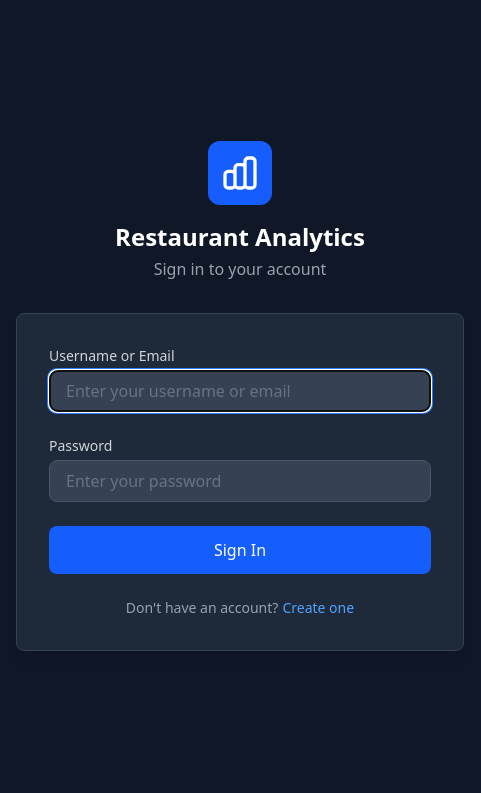
Test: Login Page - Registration › shows error when passwords do not match
Step 1. Click the button "Create one" → (318, 608), box [282,598,354,618]
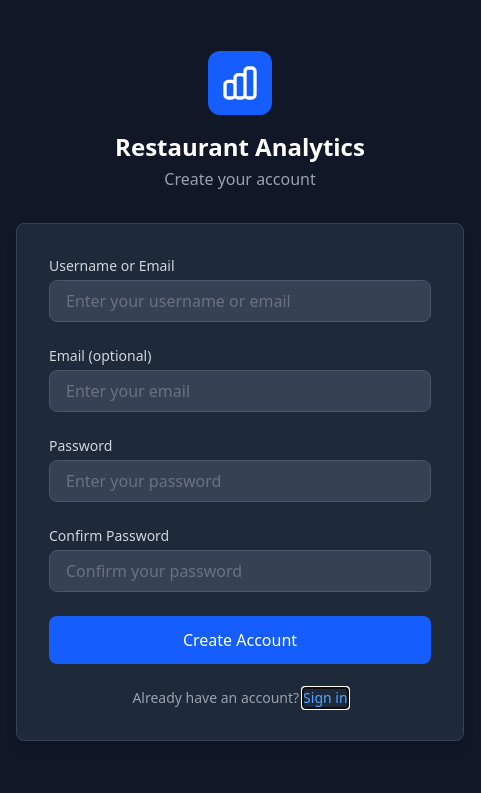
Step 2. Type "newuser" into the field labelled "Username or Email" → (240, 301), box [49,280,431,322]
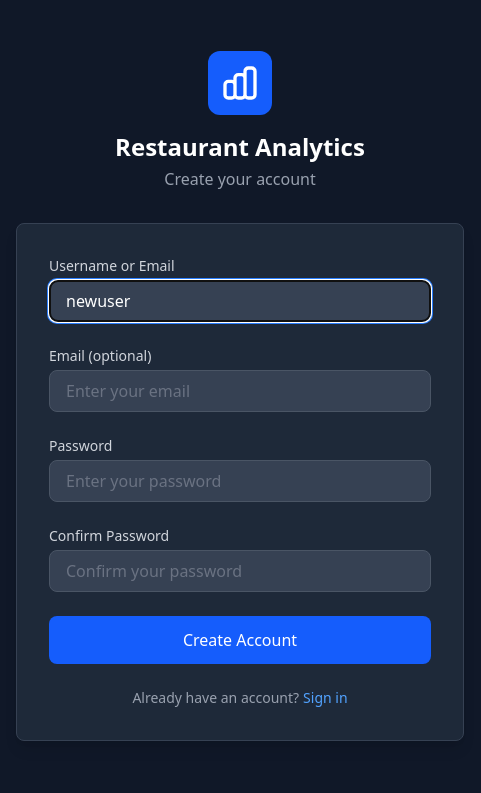
Step 3. Type "password123" into the password field labelled "Password" → (240, 481), box [49,460,431,502]
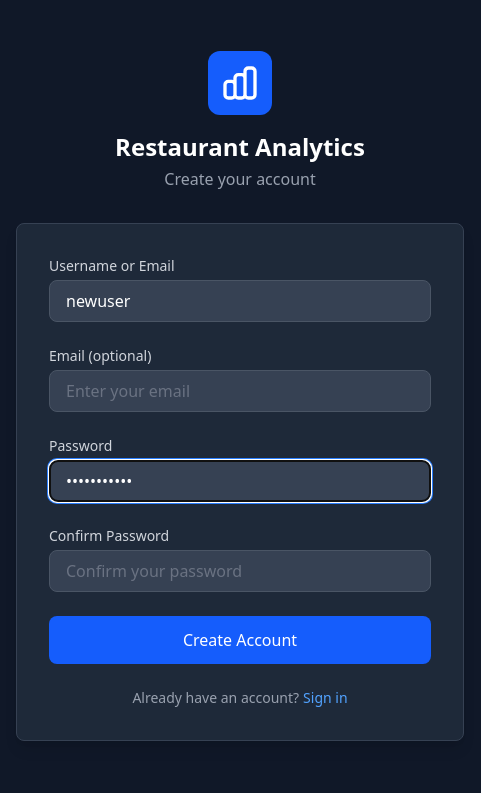
Step 4. Type "different" into the password field labelled "Confirm Password" → (240, 571), box [49,550,431,592]
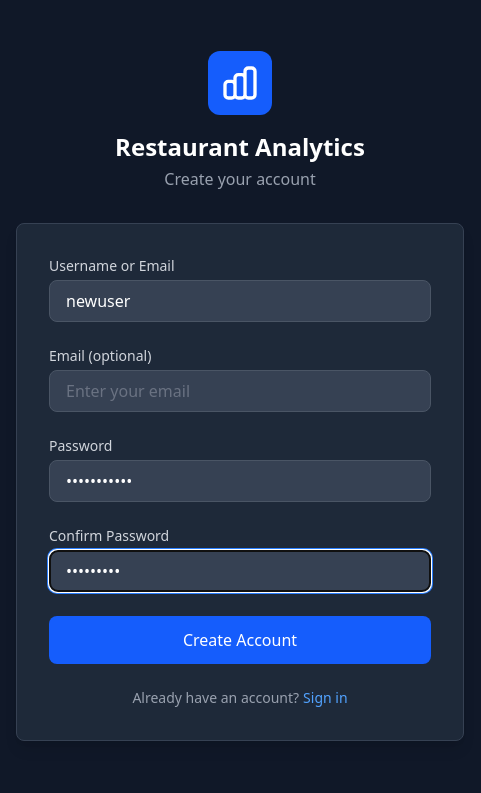
Step 5. Click the button "Create Account" → (240, 640), box [49,616,431,664]
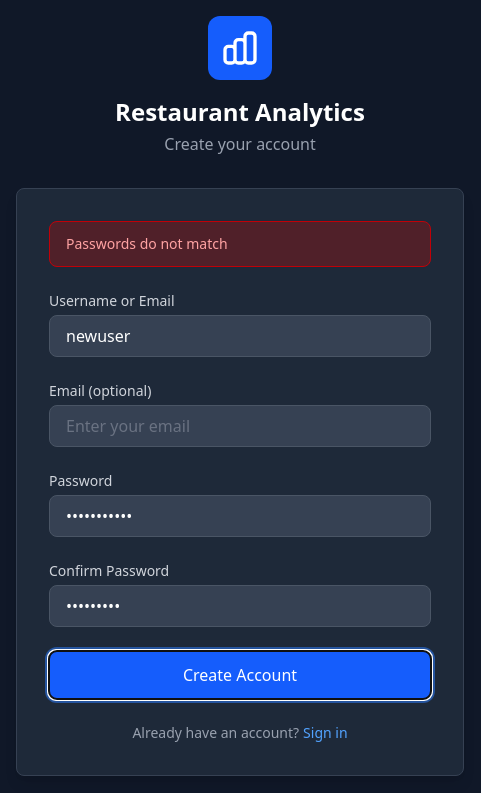
Now the text "Passwords do not match" is shown, box [49,221,431,267]
